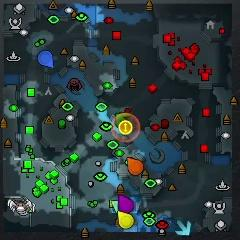Other: (119, 120, 133, 135)
p1: (37, 51, 54, 68)
p2: (111, 201, 119, 212)
p3: (118, 194, 135, 213)
p4: (117, 211, 134, 229)
p5: (127, 158, 144, 176)
x3: (176, 219, 191, 236)
x4: (115, 112, 129, 125)
